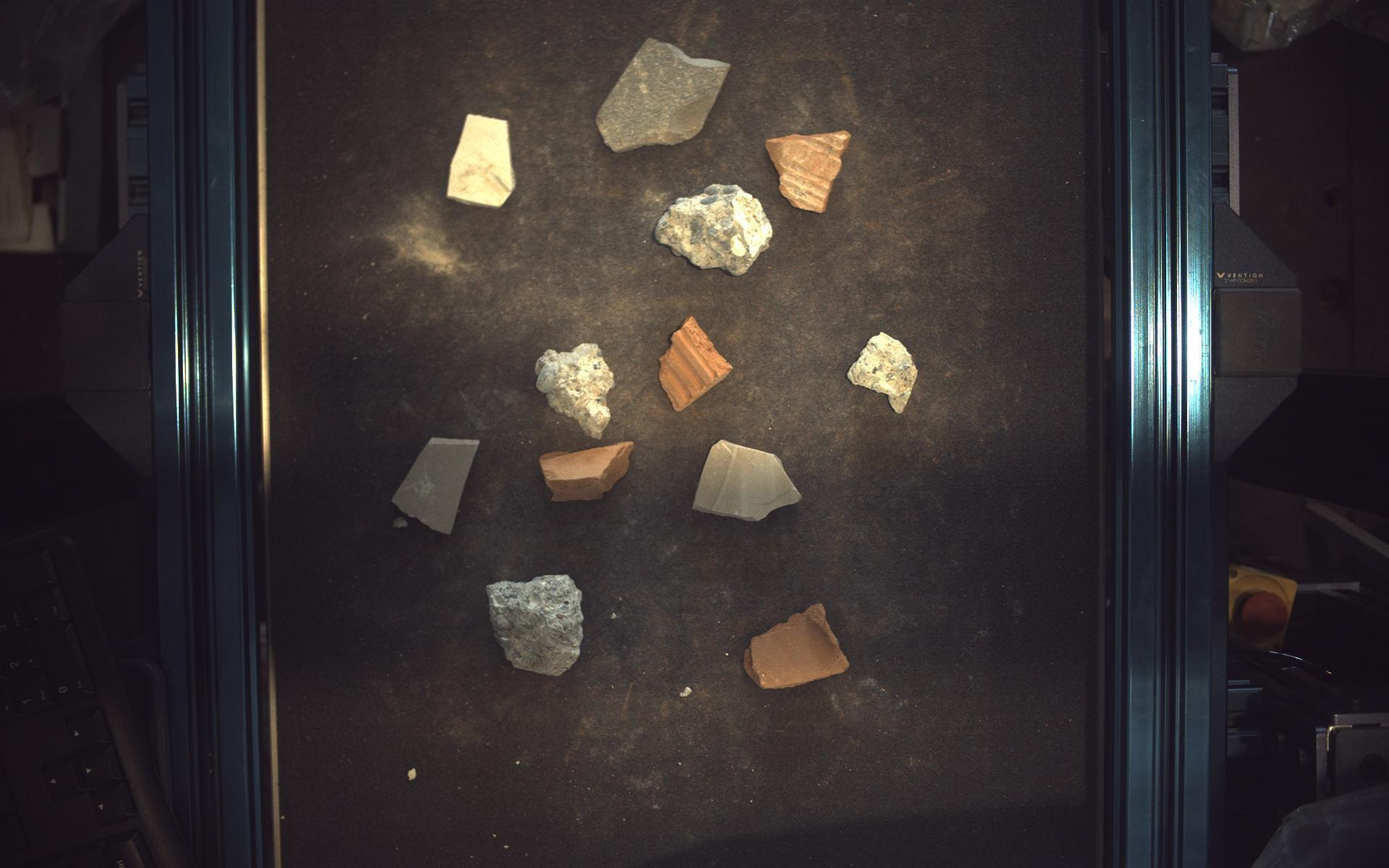brick: (745, 605, 850, 690), (660, 315, 734, 411), (767, 129, 851, 212), (540, 442, 634, 502)
concrete: (655, 183, 773, 275), (486, 575, 583, 677), (535, 343, 615, 439), (849, 332, 919, 413)
tile: (597, 37, 731, 151), (694, 441, 803, 522), (392, 438, 480, 535), (447, 113, 516, 207)
